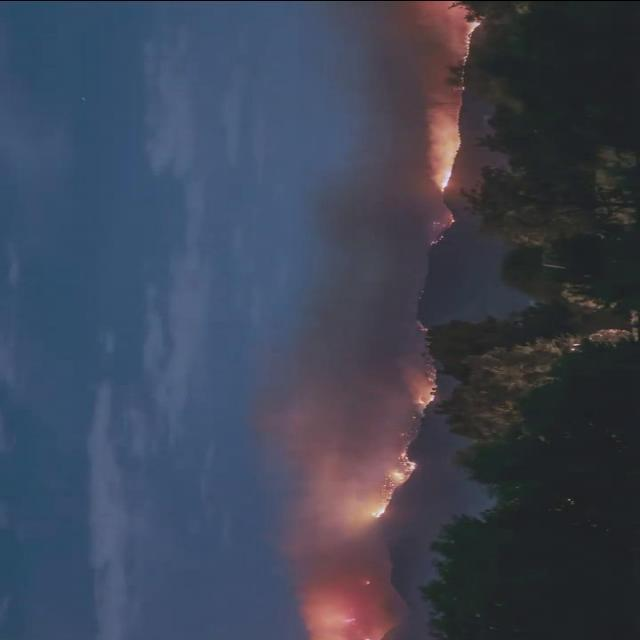Fire: (372, 445, 421, 517), (427, 106, 463, 192), (458, 18, 480, 62), (415, 382, 438, 404), (446, 214, 454, 224)
